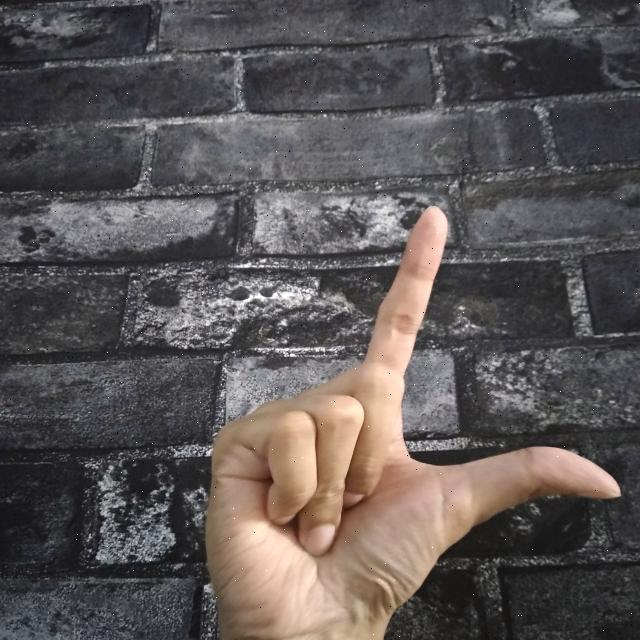L: (200, 198, 630, 640)
